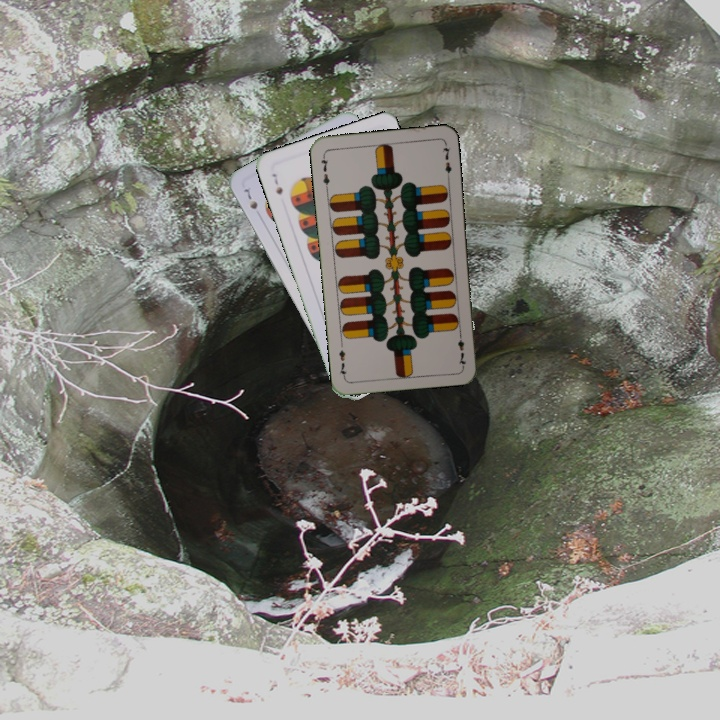E7: (317, 151, 332, 191), (453, 328, 468, 368)
S7: (240, 185, 260, 212), (268, 169, 285, 197)
